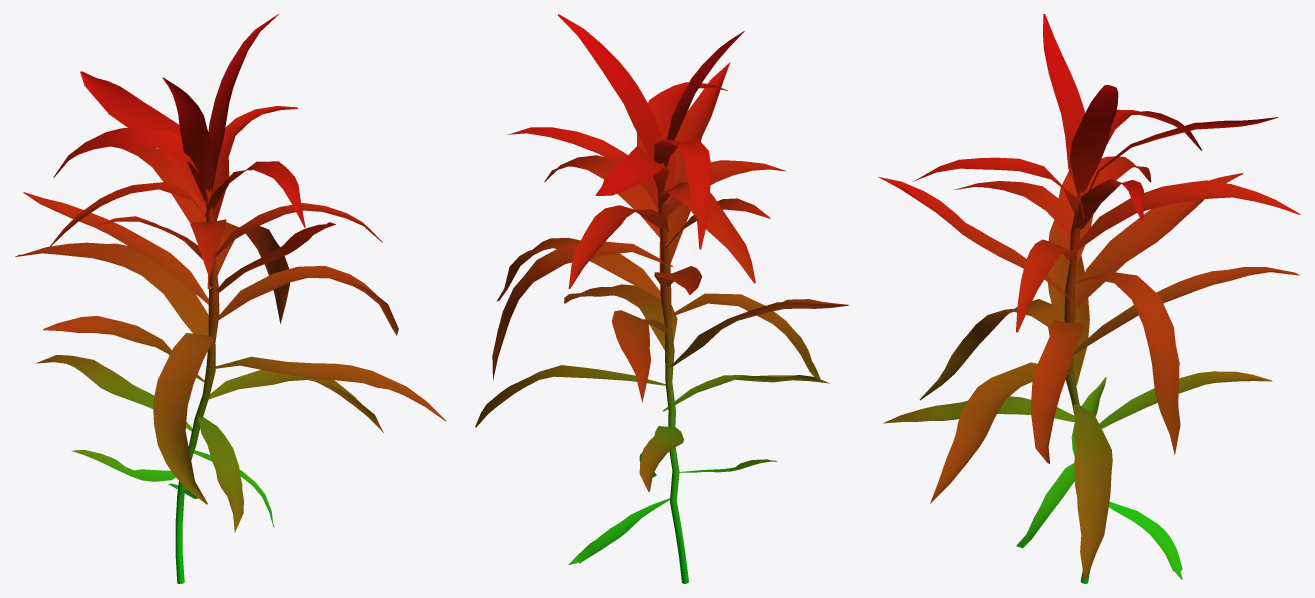
Rendered from Butterfly Weed_LOD0_Var13.fbx.
3 renders of one model, left to right at view 1: azimuth 30°, elevation 25°; view 2: azimuth 150°, elevation 25°; view 3: azimuth 270°, elevation 25°, orthographic. The views are drawn at different scales.
Parts seen in each view (by area): view 1: _j2ku_Var13_LOD0; view 2: _j2ku_Var13_LOD0; view 3: _j2ku_Var13_LOD0.
Part boxes in pixels (box(x1,y1,x2,y2)): _j2ku_Var13_LOD0: box(15, 14, 446, 583); _j2ku_Var13_LOD0: box(475, 14, 848, 583); _j2ku_Var13_LOD0: box(878, 14, 1300, 583).
Size of the model in its own units: 27.91 by 40.47 by 28.02.
